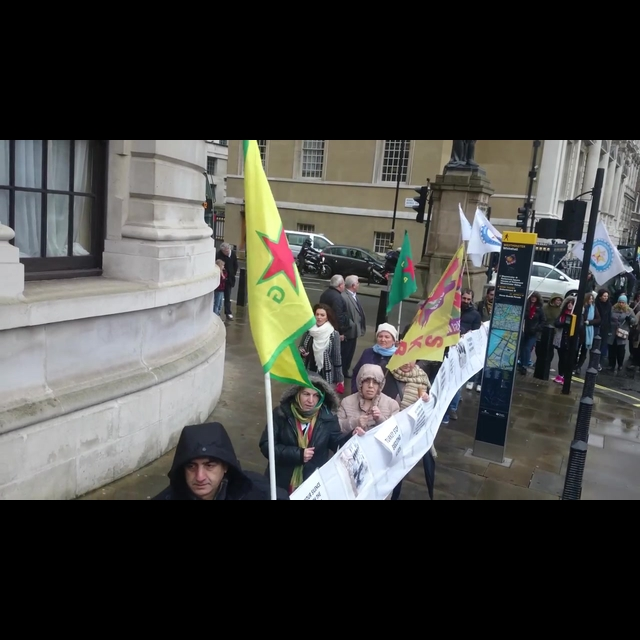YPG: (238, 139, 317, 392)
